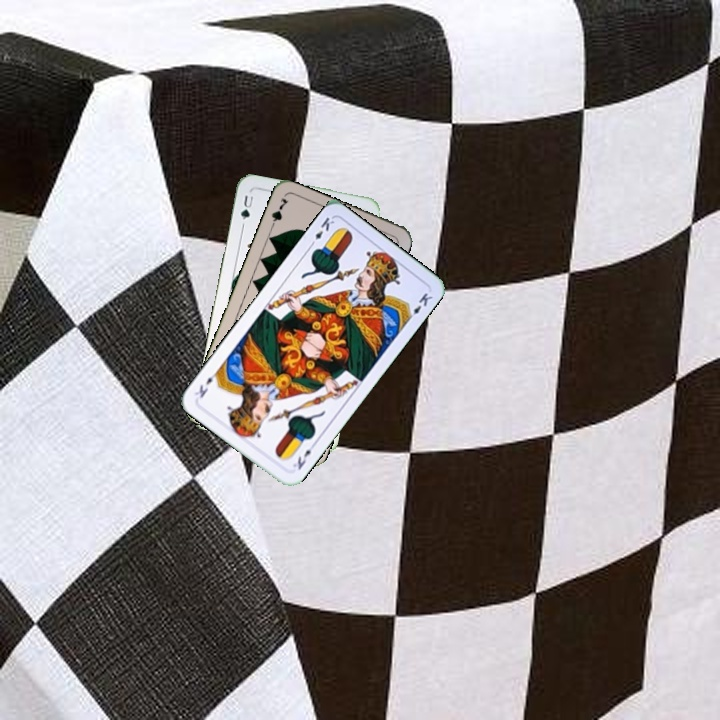EK: (306, 213, 337, 250), (289, 439, 319, 472)
G7: (266, 194, 291, 233)
GU: (237, 191, 256, 222)
